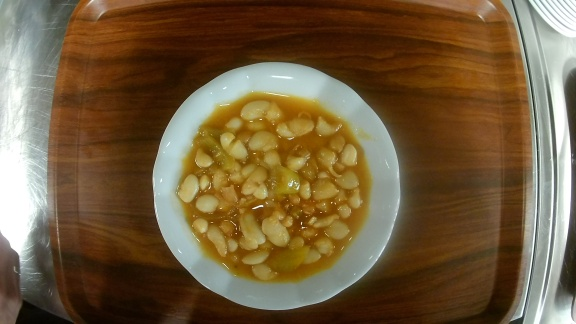kurufasulye: (151, 62, 406, 314)
